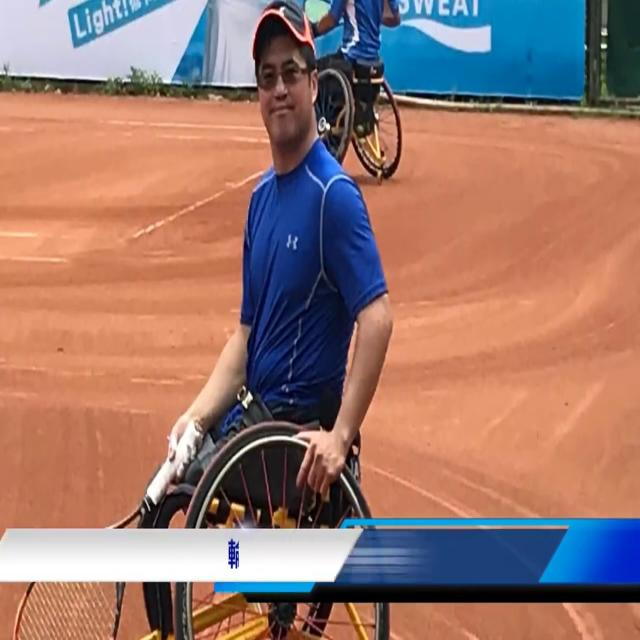wheelchairs: (107, 334, 431, 640), (288, 25, 428, 205)
